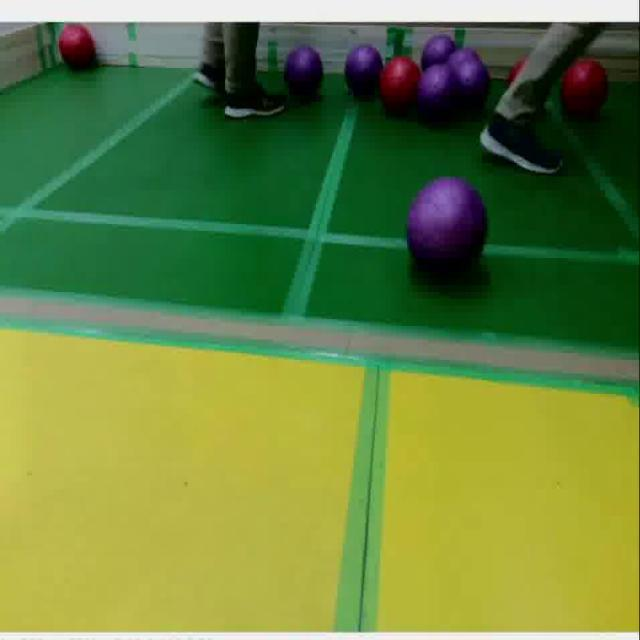purple_ball: (405, 177, 489, 281), (445, 49, 492, 117), (283, 46, 328, 102), (421, 65, 463, 124), (344, 46, 379, 101), (420, 36, 457, 67)
red_ball: (556, 61, 615, 128), (378, 61, 419, 117), (58, 26, 99, 70)
